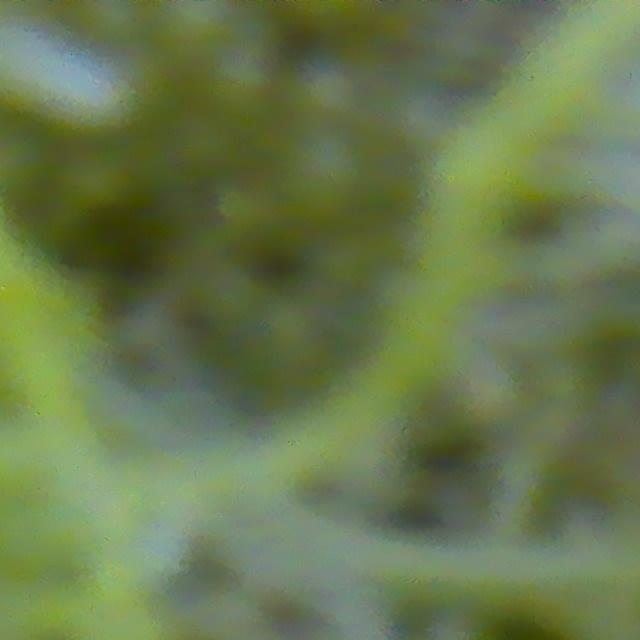SeaGrape: (279, 126, 374, 221), (152, 0, 239, 57), (75, 0, 147, 48)
